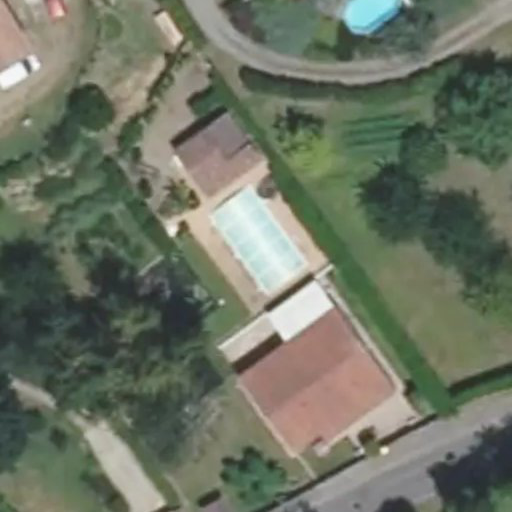pool: (209, 217, 302, 267)
